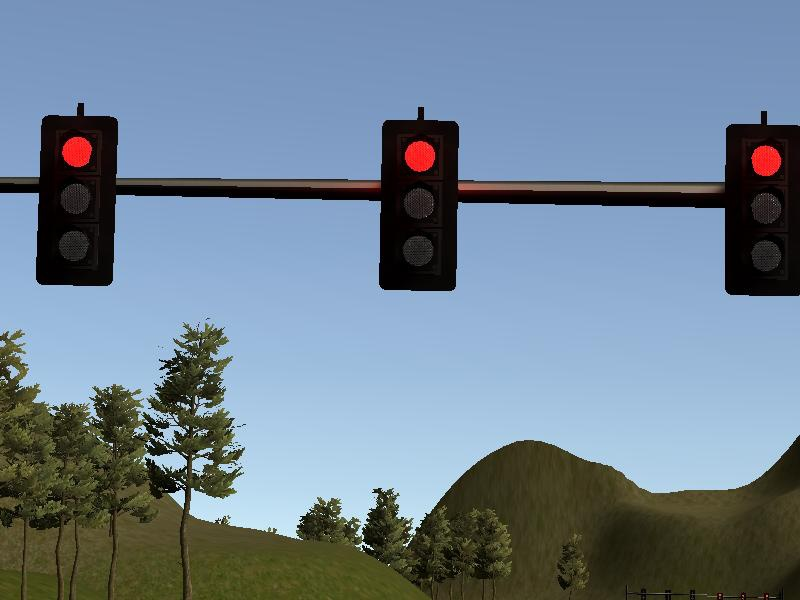Red: (378, 117, 460, 292), (35, 112, 117, 287), (720, 122, 800, 296)
